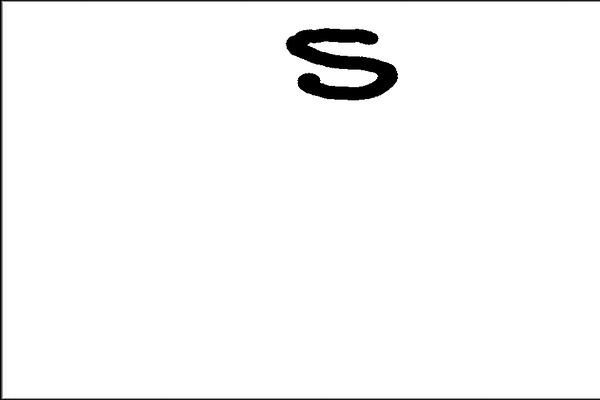S: (273, 20, 410, 112)
